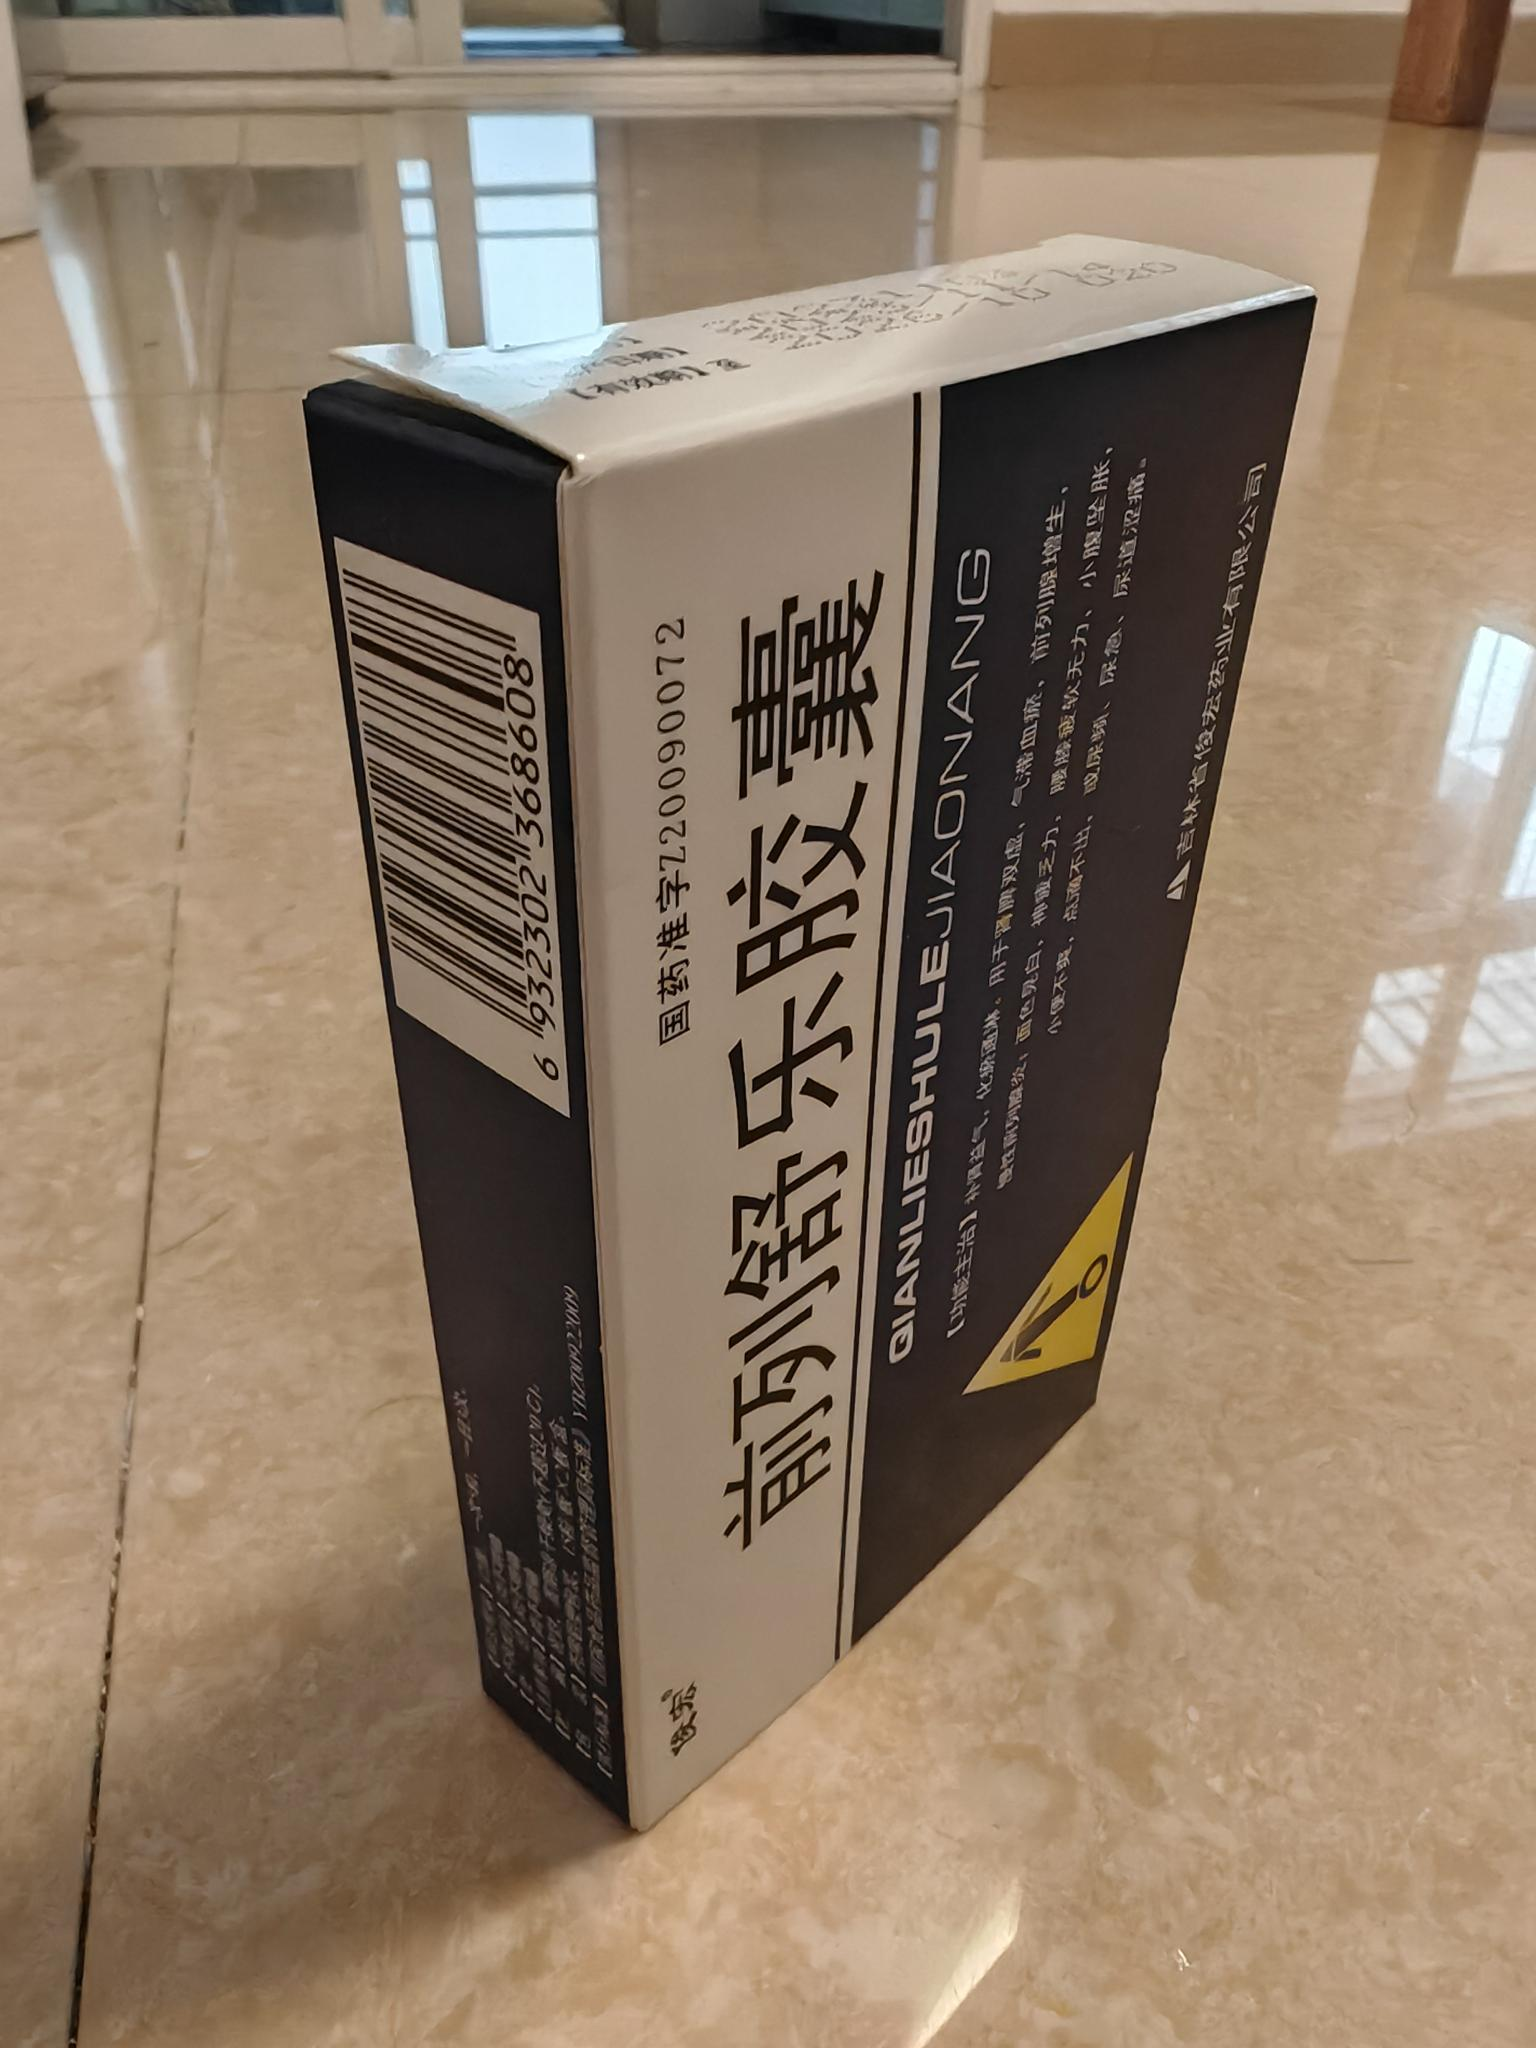Medicine2: (286, 218, 1334, 1845)
